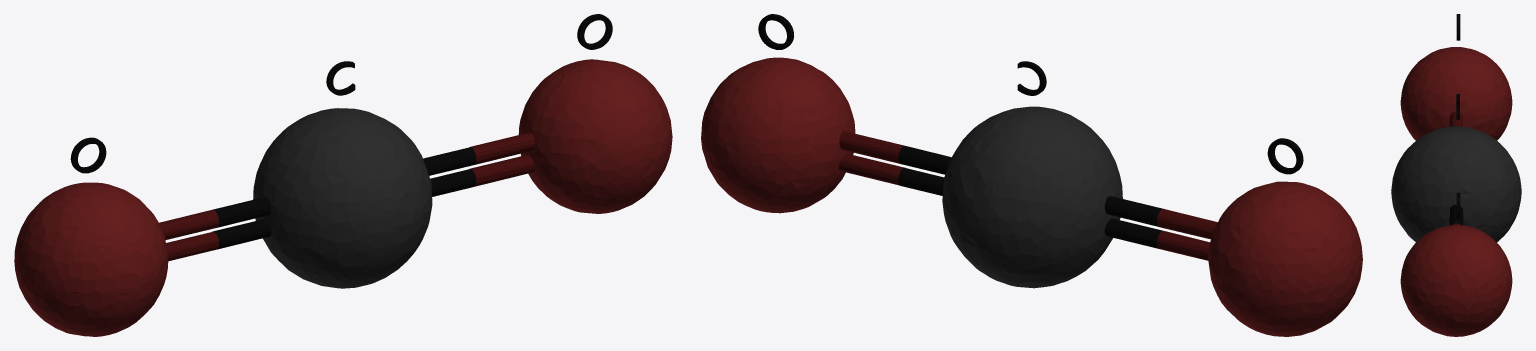
The model's file is molecule.fbx.
3 renders of one model, left to right at view 1: azimuth 30°, elevation 25°; view 2: azimuth 150°, elevation 25°; view 3: azimuth 270°, elevation 25°, orthographic. The views are drawn at different scales.
Visible parts, largest first — view 1: node_id21 (×14), root (×3); view 2: node_id21 (×14), root (×3); view 3: node_id21 (×8), root (×2).
Part boxes in pixels (box(x1,y1,x2,y2)): node_id21 (×14): box(14, 59, 672, 336); root (×3): box(70, 14, 612, 173); node_id21 (×14): box(701, 57, 1362, 336); root (×3): box(758, 14, 1303, 174); node_id21 (×8): box(1391, 47, 1521, 336); root (×2): box(1456, 14, 1460, 219).
Bounding box in the file's own units: 0.512 × 0.1663 × 0.1251.
